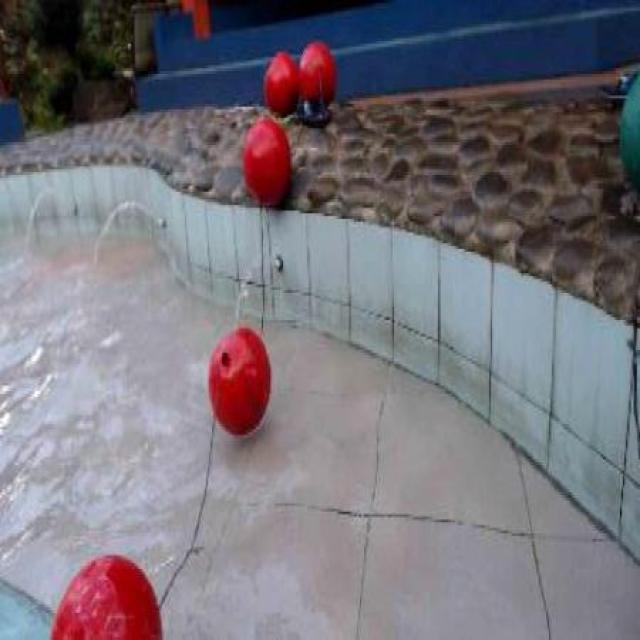buoy: (48, 551, 164, 637), (208, 324, 273, 437), (241, 115, 291, 202), (298, 39, 336, 110), (262, 51, 298, 113)
